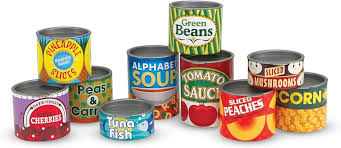can: (13, 1, 335, 148)
